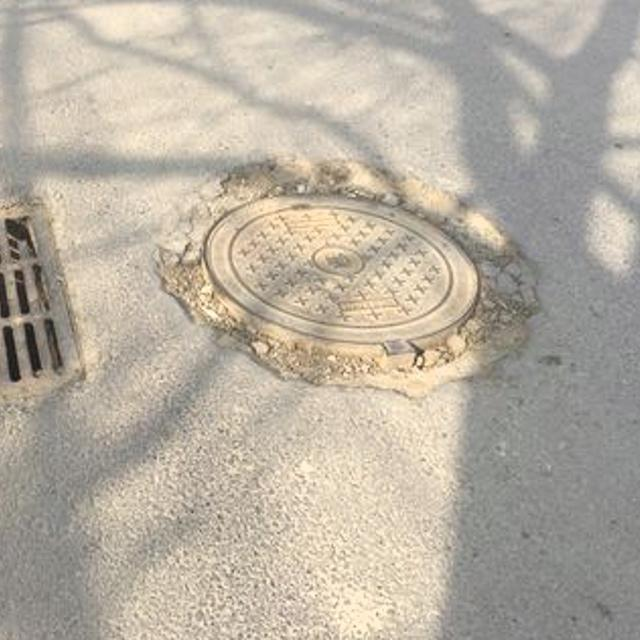circle: (145, 136, 541, 407)
